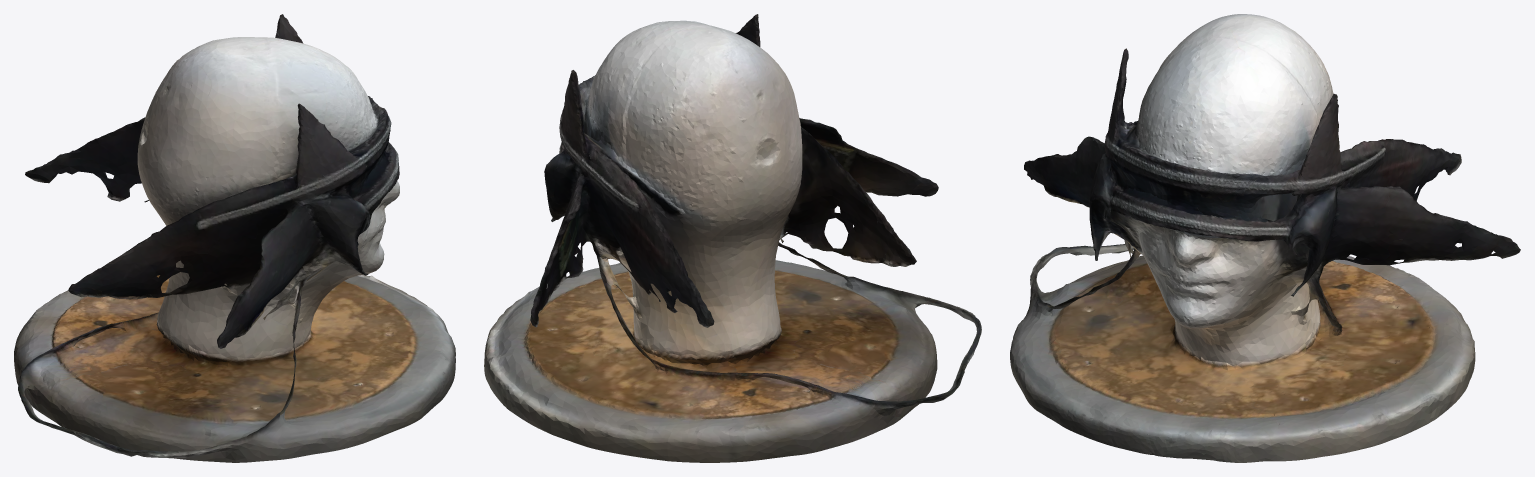
File: Daniel_Dong.glb
3 views of the same model, side by side, from view 1: azimuth 30°, elevation 25°; view 2: azimuth 150°, elevation 25°; view 3: azimuth 270°, elevation 25° (orthographic). The views are drawn at different scales.
Parts seen in each view (by area): view 1: Mesh_0.011; view 2: Mesh_0.011; view 3: Mesh_0.011.
Part boxes in pixels (x1,y1,x2,y2): Mesh_0.011: (14, 14, 455, 462); Mesh_0.011: (484, 14, 981, 462); Mesh_0.011: (1010, 14, 1520, 462).
Bounding box in the file's own units: 4.78 × 3.59 × 4.86.
Materials: 1 (1 with a texture image).
